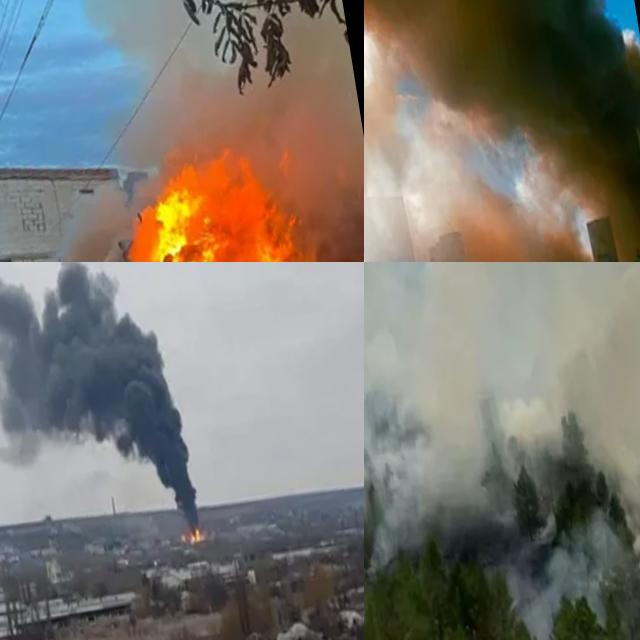smoke: (364, 262, 640, 640), (73, 0, 364, 262), (364, 0, 640, 262), (0, 262, 226, 560)
